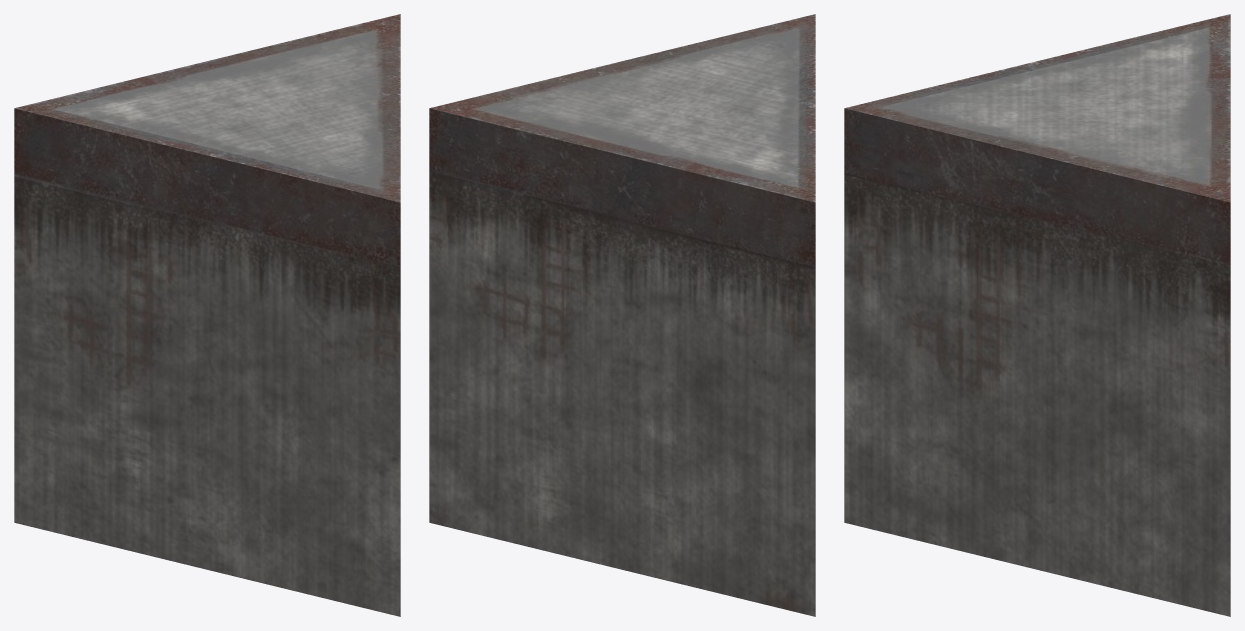
Rendered from armored_foundation_triangle_high_textured.glb.
3 renders of one model, left to right at view 1: azimuth 30°, elevation 25°; view 2: azimuth 150°, elevation 25°; view 3: azimuth 270°, elevation 25°, orthographic.
Visible parts, largest first — view 1: Circle; view 2: Circle; view 3: Circle.
Part boxes in pixels (x1,y1,x2,y2): Circle: (14, 14, 400, 616); Circle: (429, 14, 815, 616); Circle: (844, 14, 1230, 616).
Size of the model in its own units: 2 by 2.05 by 1.73.
1 material, 1 textured.
